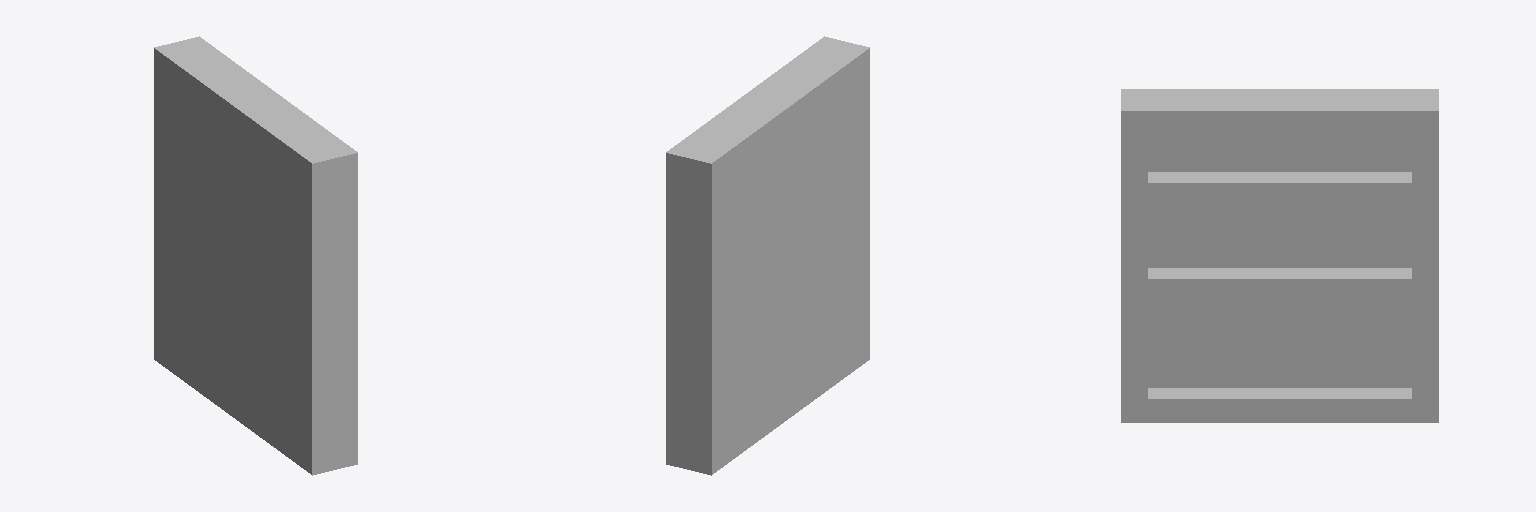
The model's file is Edificio Rojo-3-Window3.obj.
3 views of the same model, side by side, from view 1: azimuth 30°, elevation 25°; view 2: azimuth 150°, elevation 25°; view 3: azimuth 270°, elevation 25° (orthographic).
Parts seen in each view (by area): view 1: Window3; view 2: Window3; view 3: Window3.
Part boxes in pixels (x1,y1,x2,y2): Window3: (154,36,357,475); Window3: (666,36,869,475); Window3: (1121,89,1438,422).
Bounding box in the file's own units: 0.2 × 1.3 × 1.2.